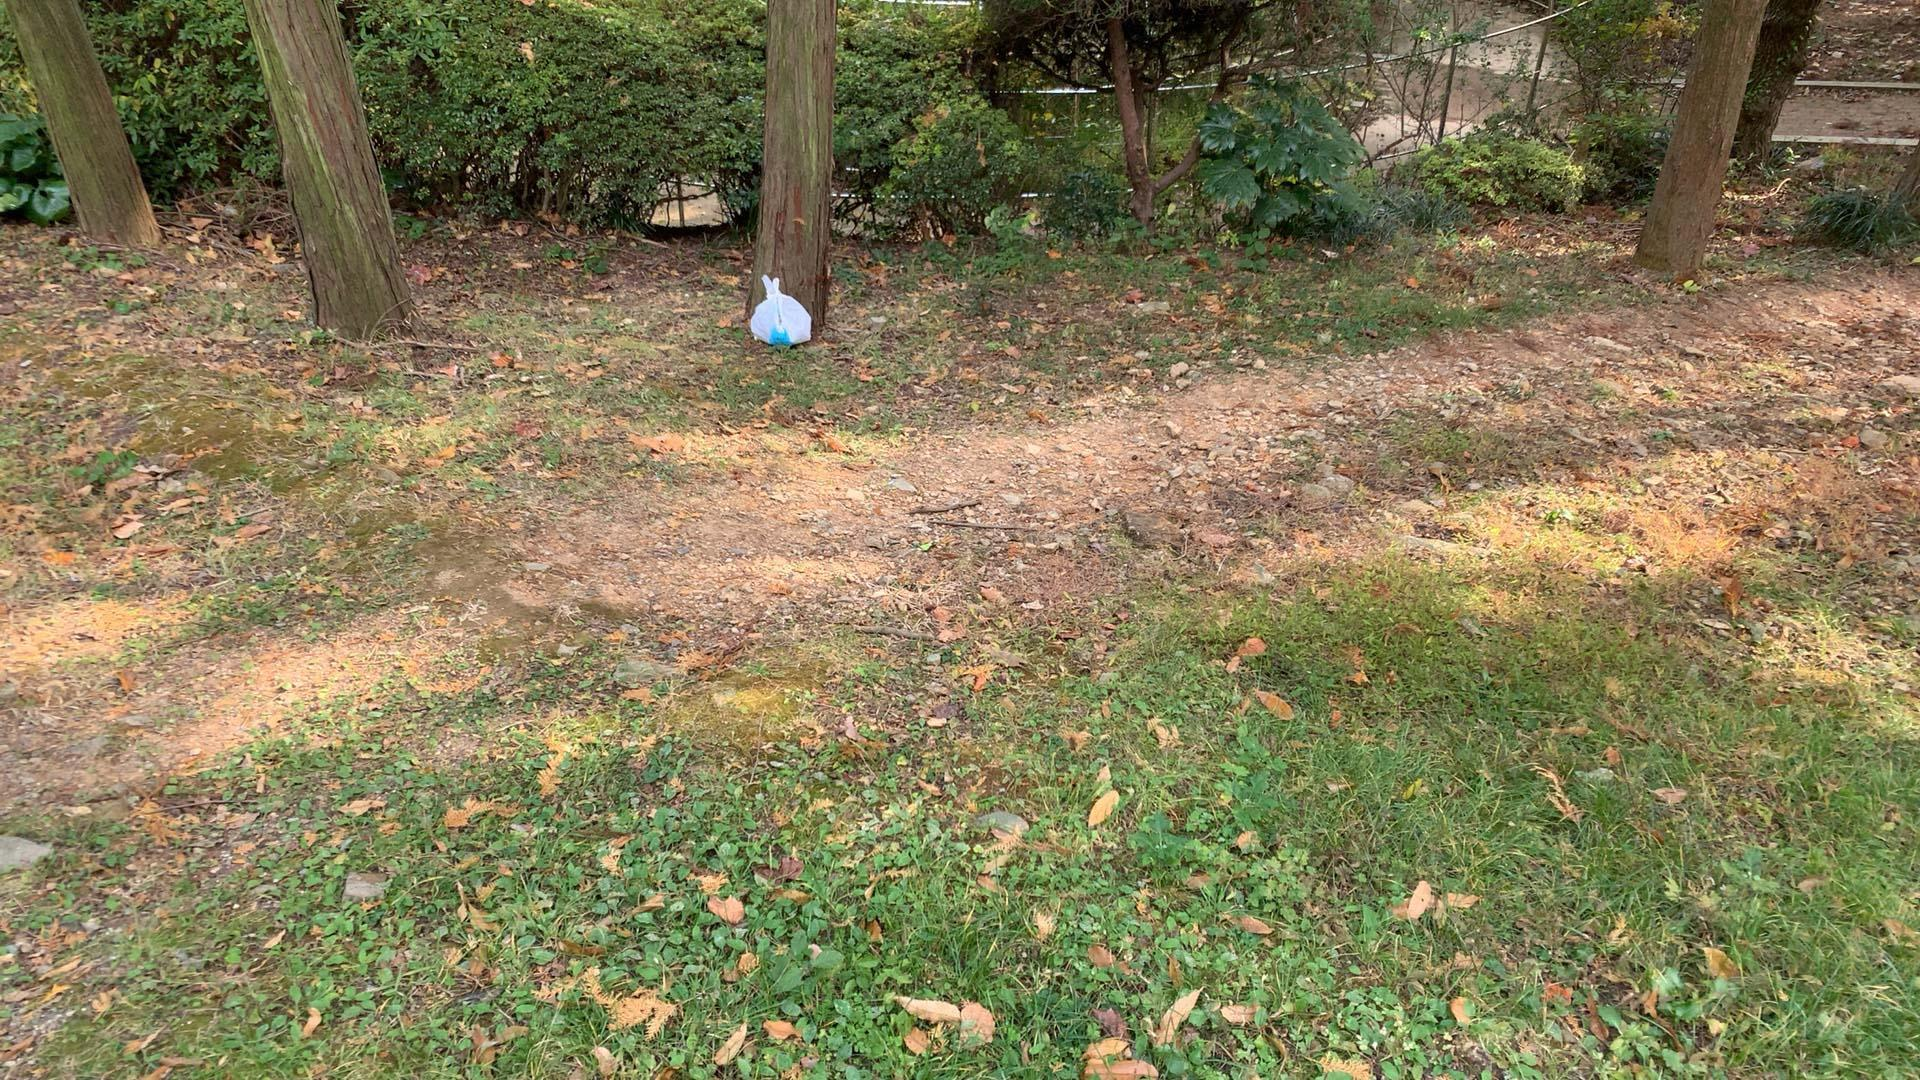white_bag: (741, 270, 818, 347)
